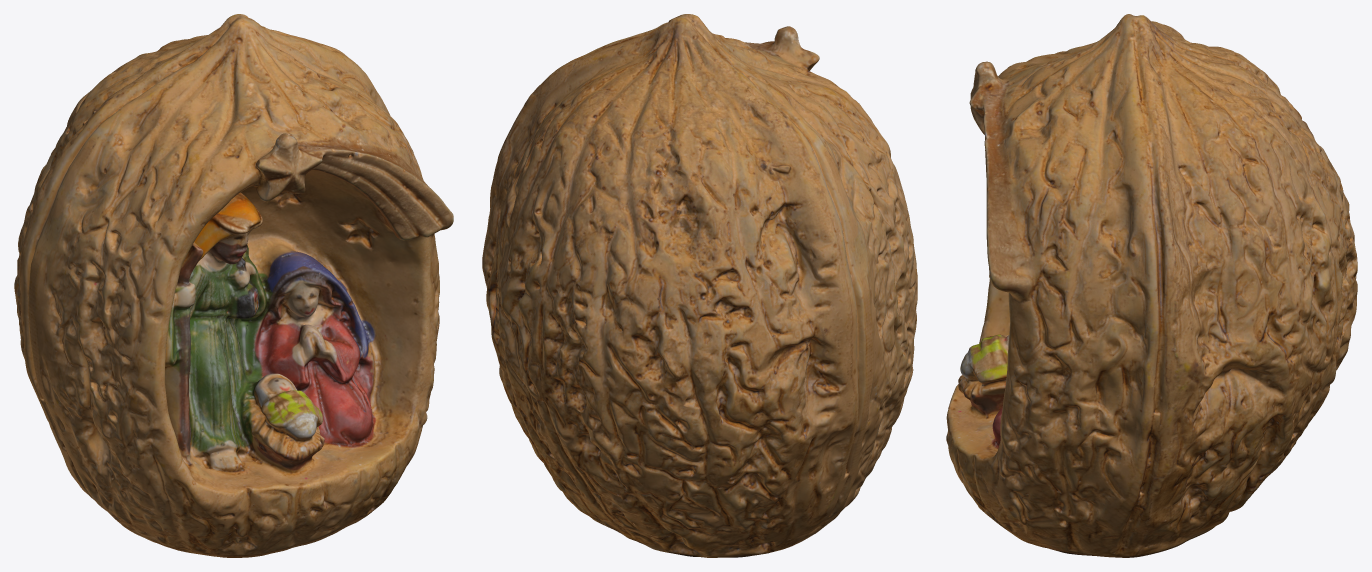
File: familia3.glb
The picture shows the model from 3 angles, left to right: view 1: azimuth 30°, elevation 25°; view 2: azimuth 150°, elevation 25°; view 3: azimuth 270°, elevation 25°; orthographic projection. The views are drawn at different scales.
Parts seen in each view (by area): view 1: Object_2, Object_3; view 2: Object_2, Object_3; view 3: Object_2, Object_3.
Part boxes in pixels (left/top/right/bottom): Object_2: left=14, top=14, right=453, bottom=557; Object_3: left=14, top=14, right=453, bottom=496; Object_2: left=482, top=14, right=917, bottom=557; Object_3: left=484, top=14, right=917, bottom=498; Object_2: left=946, top=14, right=1357, bottom=557; Object_3: left=957, top=15, right=1356, bottom=489.
Size of the model in its own units: 1.87 by 2.35 by 1.77.
1 material, 1 textured.
